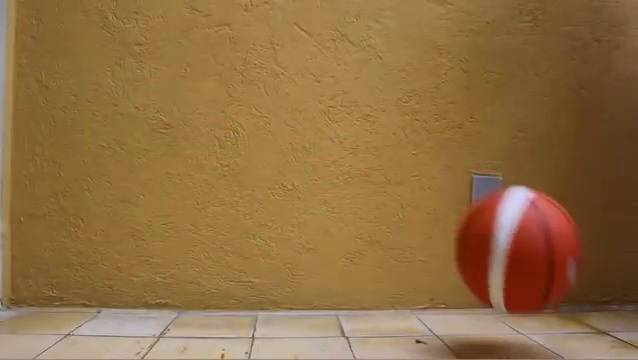ball: (455, 185, 584, 319)
